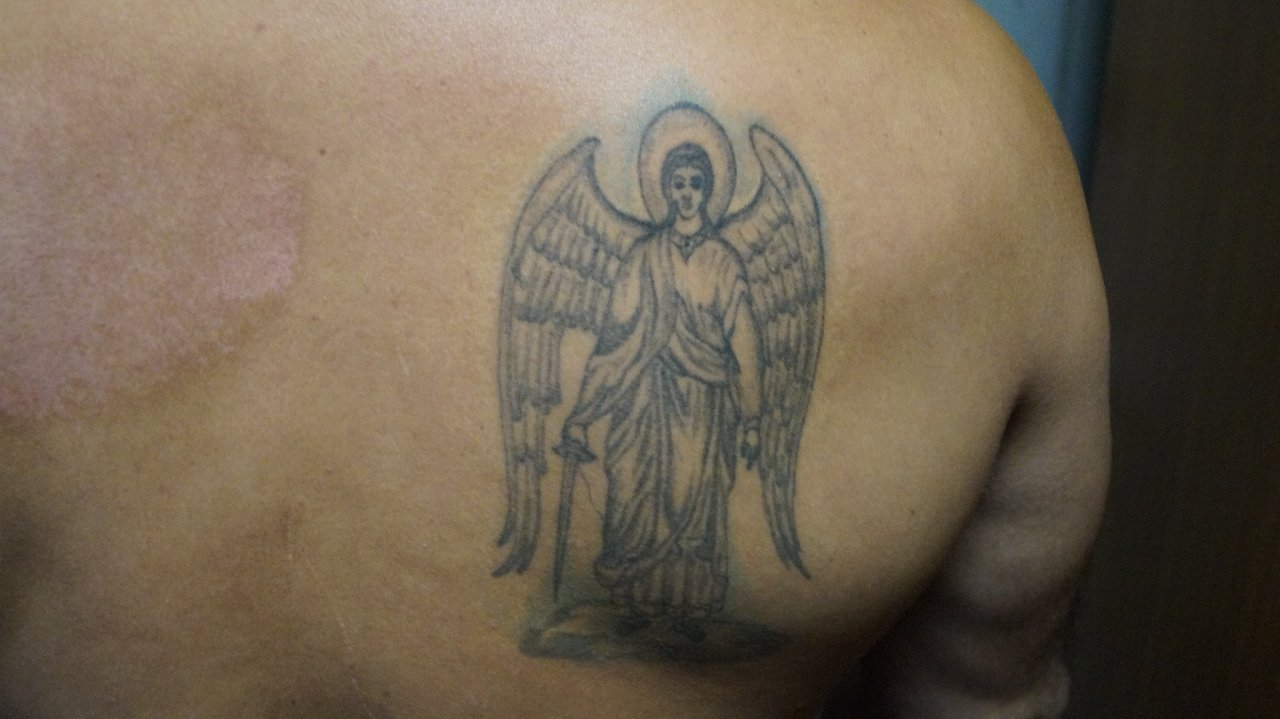tatu1_angel: (511, 44, 866, 642)
